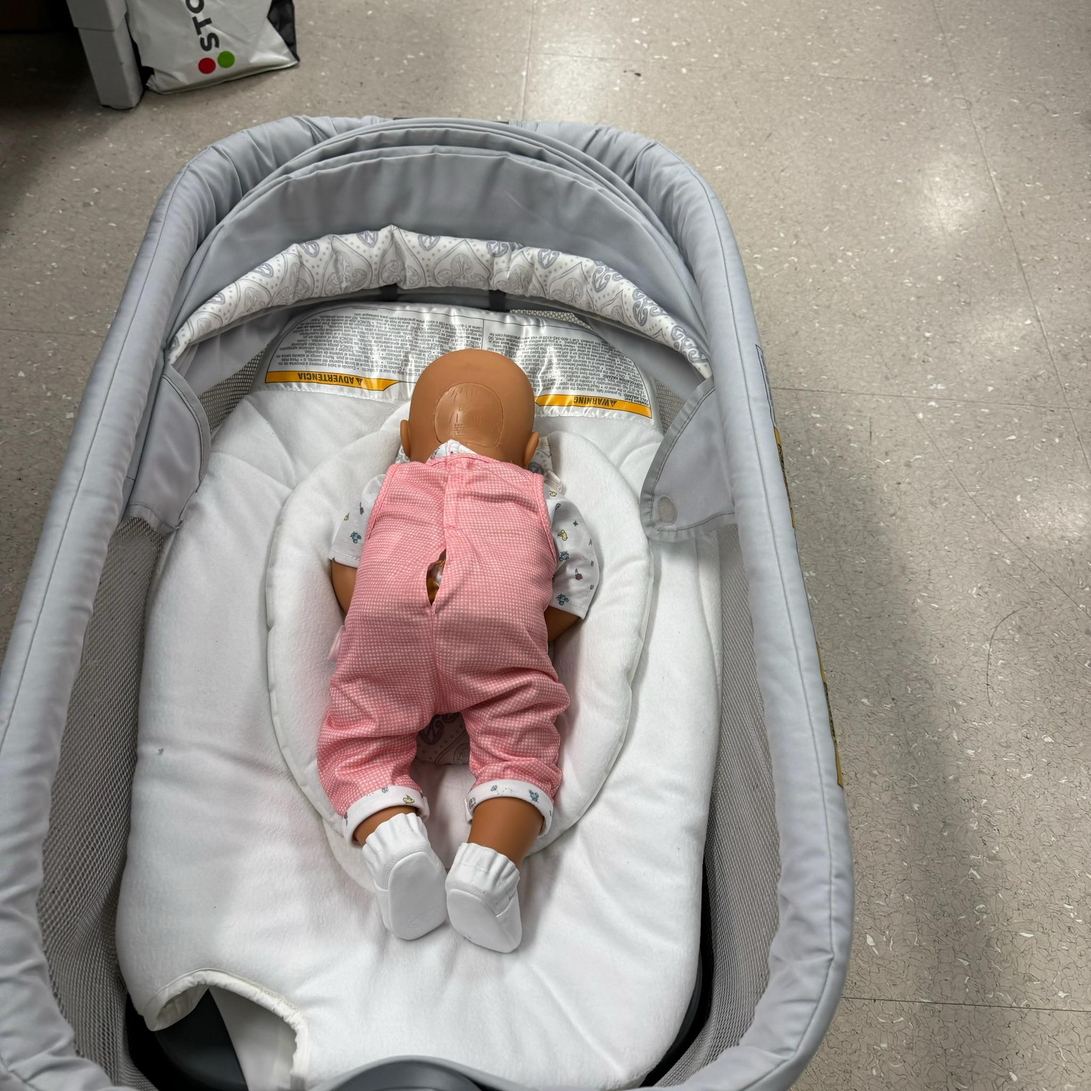baby: (315, 339, 607, 948)
